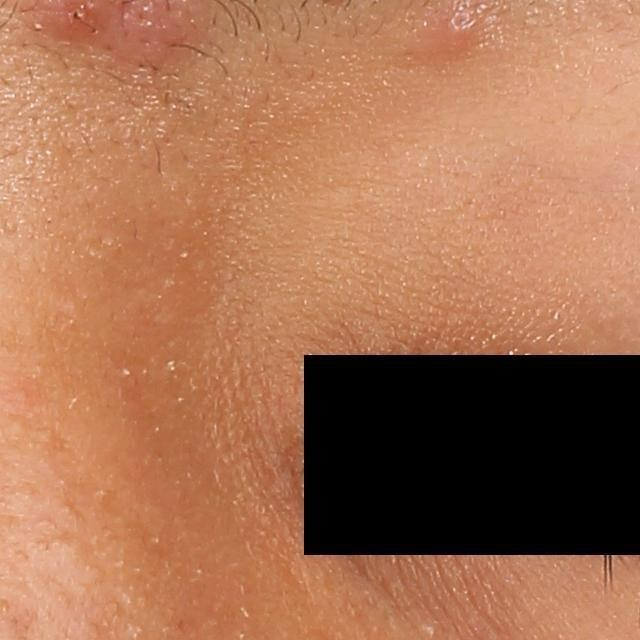papule: (436, 10, 483, 52)
